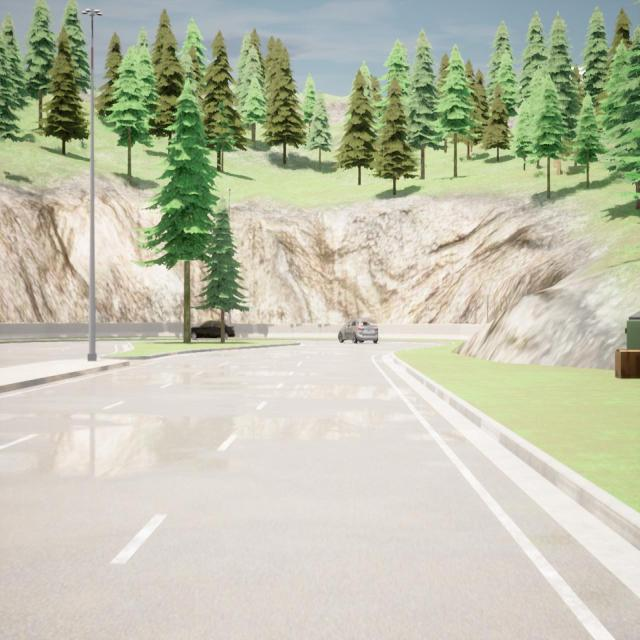Vehicle: (190, 319, 237, 342), (338, 318, 378, 343)
